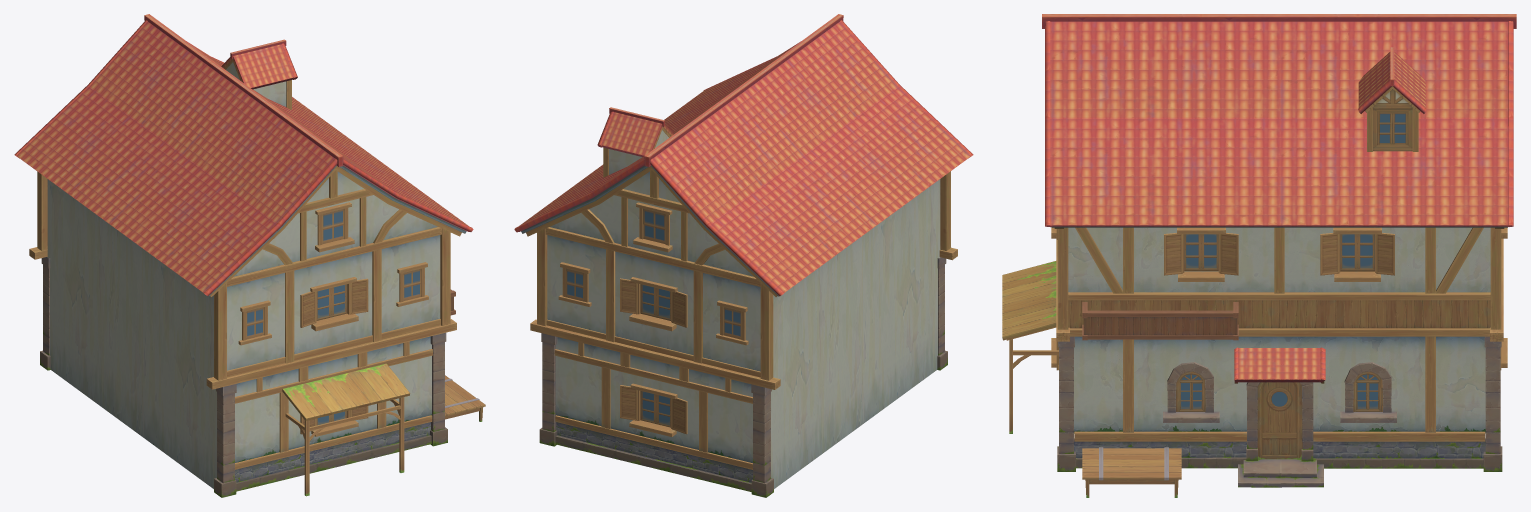
The model's file is Chapter03_Buggy_building04_LOD.fbx.
The picture shows the model from 3 angles, left to right: view 1: azimuth 30°, elevation 25°; view 2: azimuth 150°, elevation 25°; view 3: azimuth 270°, elevation 25°; orthographic projection. The views are drawn at different scales.
Parts seen in each view (by area): view 1: Chapter03_Buggy_building04_LOD; view 2: Chapter03_Buggy_building04_LOD; view 3: Chapter03_Buggy_building04_LOD.
Boxes of the visible parts, left/top/right/bottom form: Chapter03_Buggy_building04_LOD: left=14, top=14, right=485, bottom=497; Chapter03_Buggy_building04_LOD: left=514, top=14, right=973, bottom=497; Chapter03_Buggy_building04_LOD: left=1002, top=14, right=1516, bottom=497.
Size of the model in its own units: 1104 by 1133 by 1359.
